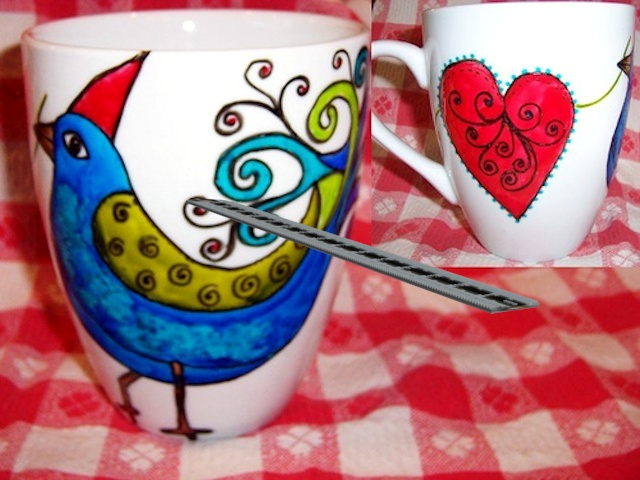ruler: (185, 193, 544, 320)
